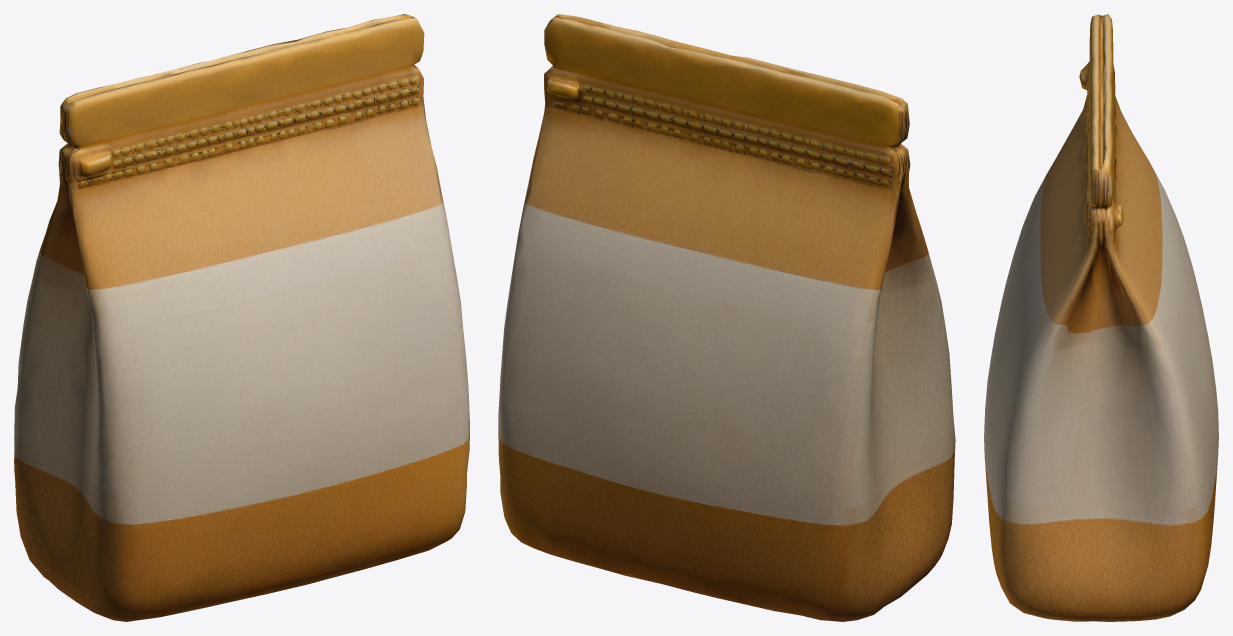
Rendered from P_TreatPouch_h30.fbx.
3 views of the same model, side by side, from view 1: azimuth 30°, elevation 25°; view 2: azimuth 150°, elevation 25°; view 3: azimuth 270°, elevation 25° (orthographic). The views are drawn at different scales.
Visible parts, largest first — view 1: texture_mapping; view 2: texture_mapping; view 3: texture_mapping.
Part boxes in pixels (left/top/right/bottom): texture_mapping: left=14, top=14, right=469, bottom=621; texture_mapping: left=498, top=14, right=955, bottom=621; texture_mapping: left=984, top=14, right=1218, bottom=621.
Size of the model in its own units: 76.45 by 100 by 46.21.
1 material, 1 textured.
